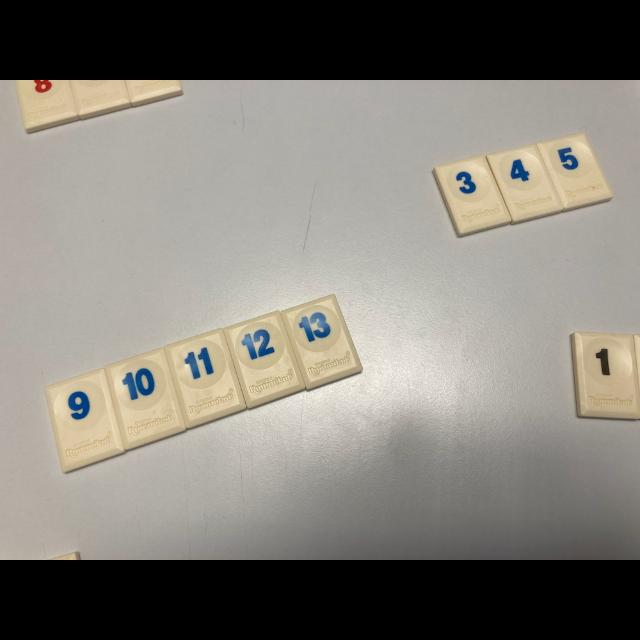black_1: (571, 332, 640, 419)
blue_10: (107, 349, 185, 450)
blue_11: (165, 329, 245, 428)
blue_12: (225, 311, 305, 408)
blue_13: (281, 295, 362, 390)
blue_3: (434, 155, 510, 236)
blue_4: (488, 145, 562, 222)
blue_5: (538, 132, 614, 210)
blue_9: (46, 369, 125, 472)
red_8: (16, 80, 79, 132)
